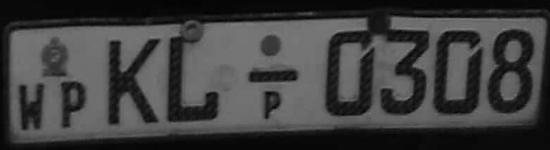-: (247, 64, 300, 90)
0: (320, 27, 378, 123), (434, 26, 486, 120)
3: (381, 25, 433, 117)
8: (488, 23, 537, 119)
K: (104, 34, 164, 130)
L: (166, 30, 227, 127)
P: (59, 76, 90, 130)
W: (13, 76, 51, 135)
